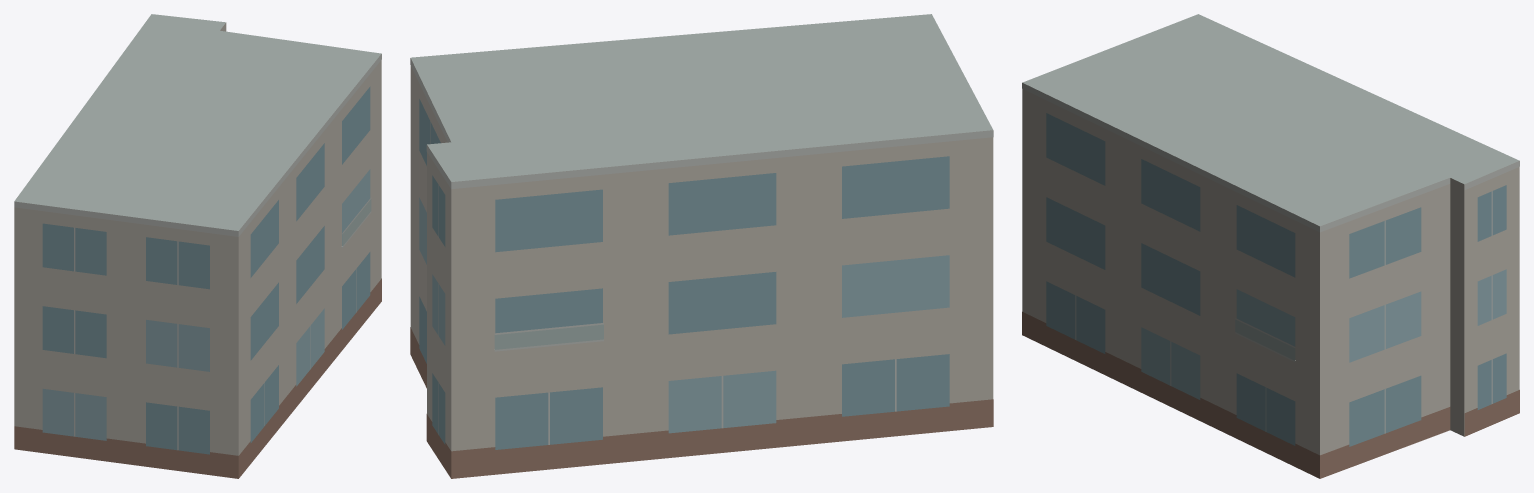
File: survey-upis-32700866.glb
3 views of the same model, side by side, from view 1: azimuth 30°, elevation 25°; view 2: azimuth 150°, elevation 25°; view 3: azimuth 270°, elevation 25° (orthographic). The views are drawn at different scales.
Parts seen in each view (by area): view 1: survey-upis-32700866.tmp; view 2: survey-upis-32700866.tmp; view 3: survey-upis-32700866.tmp.
Part boxes in pixels (x1,y1,x2,y2): survey-upis-32700866.tmp: (14, 14, 381, 478); survey-upis-32700866.tmp: (410, 14, 993, 478); survey-upis-32700866.tmp: (1022, 14, 1519, 478).
Bounding box in the file's own units: 18.41 × 10.2 × 18.22.
